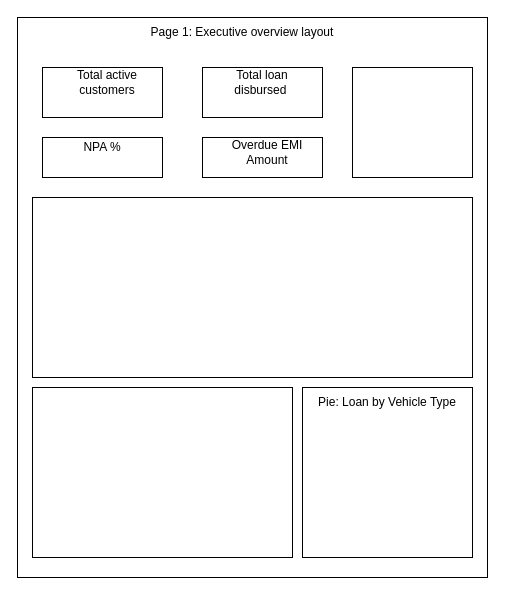
This 505x595 diagram has some shape labels left out. Each missing label, with the centre of its shape:
Bar: Region-wise disbursal: point (162, 472)
Date range slicer: point (412, 122)
Line chart: Disbursement vs Collection (Monthly Trend): point (252, 287)
